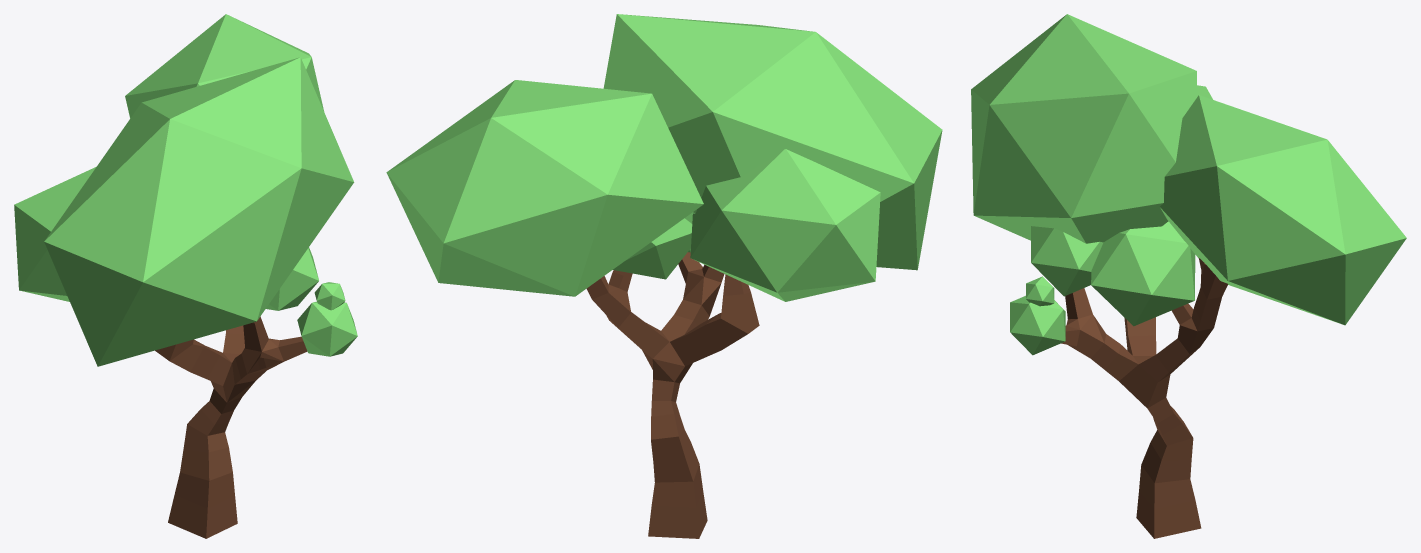
File: Tree1.fbx
3 renders of one model, left to right at view 1: azimuth 30°, elevation 25°; view 2: azimuth 150°, elevation 25°; view 3: azimuth 270°, elevation 25°, orthographic. The views are drawn at different scales.
Visible parts, largest first — view 1: Icosphere.008, Vert.001, Icosphere.012, Icosphere.007, Icosphere.010, Icosphere.009, Icosphere.011; view 2: Icosphere.012, Icosphere.008, Icosphere.007, Vert.001, Icosphere.013; view 3: Icosphere.008, Icosphere.012, Vert.001, Icosphere.013, Icosphere.009, Icosphere.010, Icosphere.011.
Boxes of the visible parts, <box> form: Icosphere.008: <box>44,57,354,366</box>; Vert.001: <box>155,316,307,538</box>; Icosphere.012: <box>125,14,324,118</box>; Icosphere.007: <box>14,167,95,301</box>; Icosphere.010: <box>297,301,357,356</box>; Icosphere.009: <box>266,247,318,310</box>; Icosphere.011: <box>314,282,345,310</box>; Icosphere.012: <box>386,80,703,296</box>; Icosphere.008: <box>603,14,942,270</box>; Icosphere.007: <box>690,149,880,301</box>; Vert.001: <box>586,252,759,538</box>; Icosphere.013: <box>613,218,692,279</box>; Icosphere.008: <box>971,14,1197,243</box>; Icosphere.012: <box>1160,95,1406,325</box>; Vert.001: <box>1061,258,1227,538</box>; Icosphere.013: <box>1091,221,1195,326</box>; Icosphere.009: <box>1031,226,1103,296</box>; Icosphere.010: <box>1010,295,1065,355</box>; Icosphere.011: <box>1026,276,1054,306</box>.
Bounding box in the file's own units: 1439 × 1650 × 1385.
